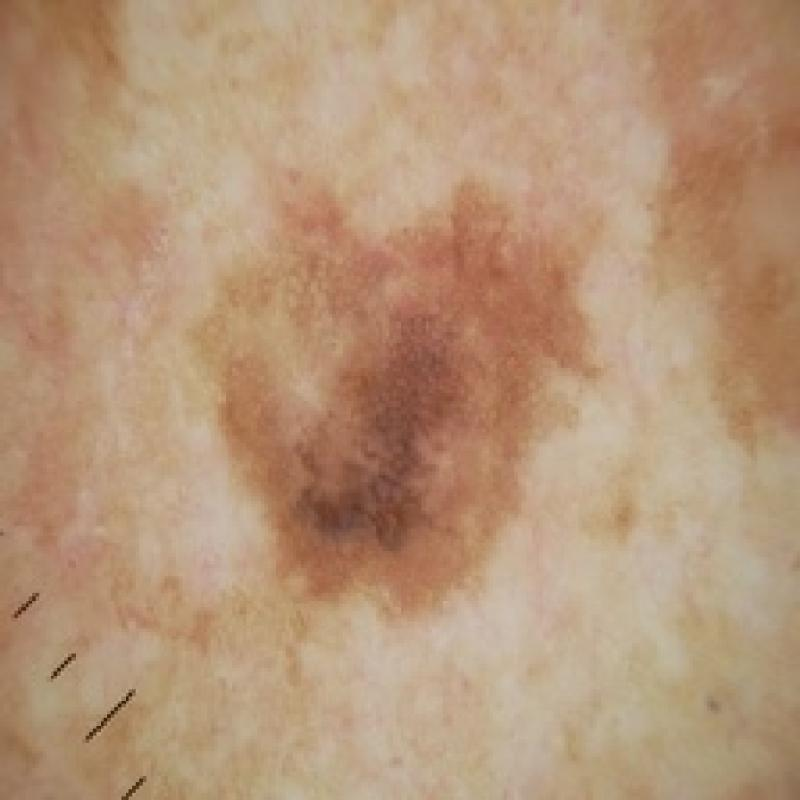malignant: (171, 150, 607, 632)
